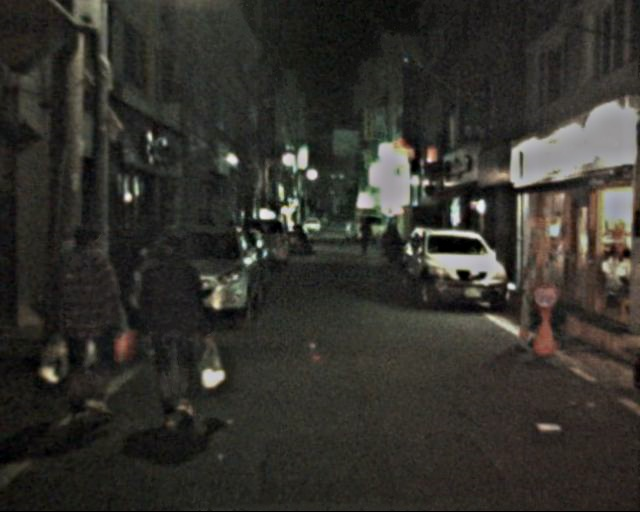person: (47, 220, 135, 421), (132, 229, 217, 435), (358, 219, 376, 258)
